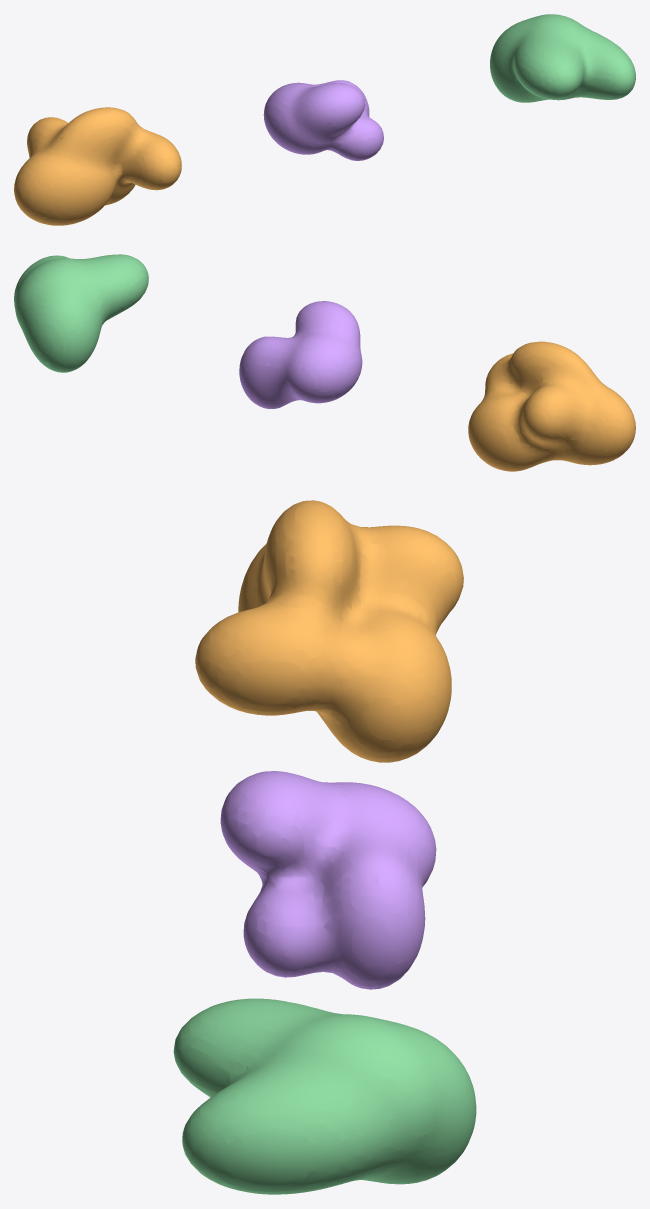
File: transcription-termination.glb
The picture shows the model from 3 angles, top to bottom: view 1: azimuth 30°, elevation 25°; view 2: azimuth 150°, elevation 25°; view 3: azimuth 270°, elevation 25°; orthographic projection. The views are drawn at different scales.
Visible parts, largest first — view 1: GEO-CPSF, GEO-XRN2, GEO-CPSF73; view 2: GEO-CPSF, GEO-XRN2, GEO-CPSF73; view 3: GEO-XRN2, GEO-CPSF, GEO-CPSF73.
Boxes of the visible parts, <box> form: GEO-CPSF: <box>14,107,181,225</box>; GEO-XRN2: <box>490,14,635,102</box>; GEO-CPSF73: <box>263,80,383,160</box>; GEO-CPSF: <box>468,341,635,471</box>; GEO-XRN2: <box>14,254,148,372</box>; GEO-CPSF73: <box>239,301,362,409</box>; GEO-XRN2: <box>173,998,476,1194</box>; GEO-CPSF: <box>195,500,463,762</box>; GEO-CPSF73: <box>220,771,436,989</box>.
Size of the model in its own units: 4.1 by 0.7557 by 0.8981.
